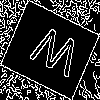W: (25, 24, 83, 87)
